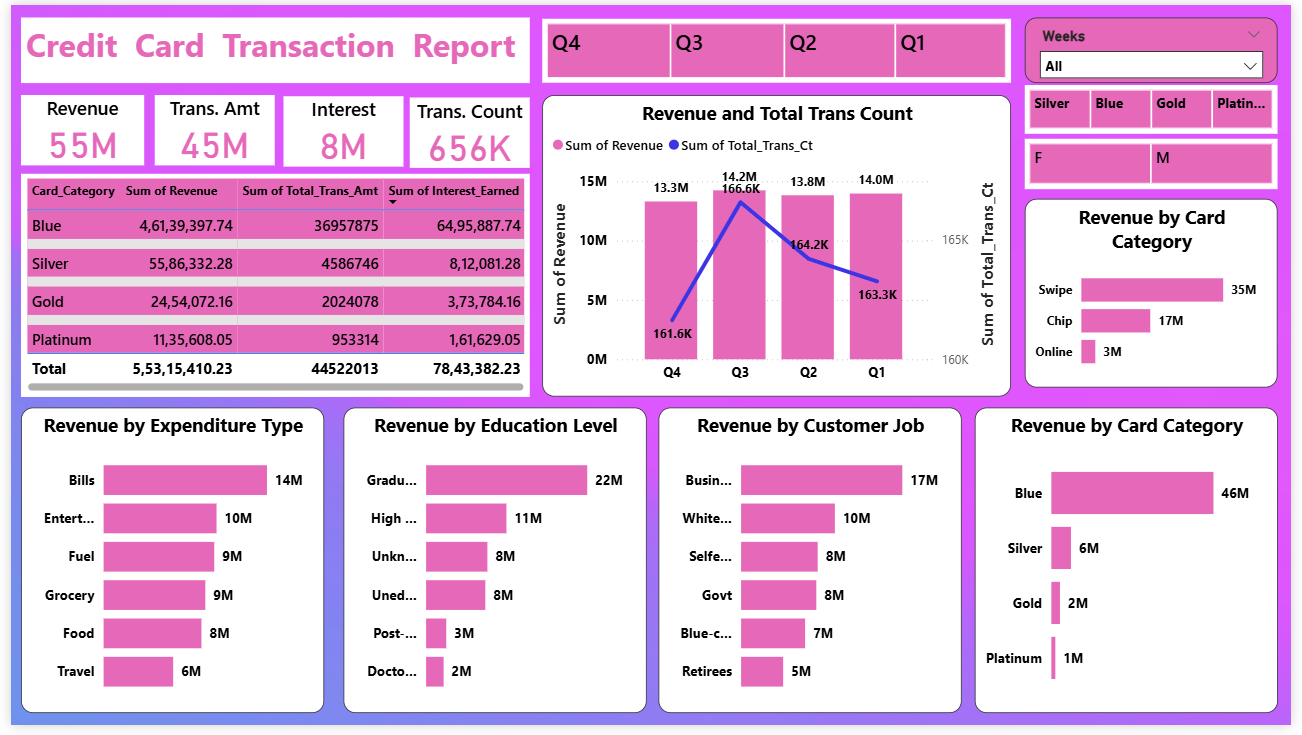

What the dashboard file says about the page in this screenshot:
{"tool":"powerbi","page":{"name":"Page 2","canvas":[1280,720],"ordinal":1},"visuals":[{"type":"textbox","box":[10,12.9,508.6,65.7],"z":0},{"type":"lineStackedColumnComboChart","title":"Revenue and Total Trans  Count","fields":{"Category":["ccdb cc_detail.Qtr"],"Y":["Sum(ccdb cc_detail.Revenue)"],"Y2":["Sum(ccdb cc_detail.Total_Trans_Ct)"]},"box":[531.4,90,468.6,301.4],"z":1000},{"type":"barChart","title":" Revenue by Expenditure Type","fields":{"Y":["Sum(ccdb cc_detail.Revenue)"],"Category":["ccdb cc_detail.Exp_Type"]},"box":[10,402.9,303,305.7],"z":2000},{"type":"barChart","title":" Revenue by Education Level","fields":{"Y":["Sum(ccdb cc_detail.Revenue)"],"Category":["ccdb cust_detail.Education_Level"]},"box":[332.9,402.9,303,305.7],"z":3000},{"type":"barChart","title":" Revenue by Customer Job","fields":{"Y":["Sum(ccdb cc_detail.Revenue)"],"Category":["ccdb cust_detail.Customer_Job"]},"box":[647.1,402.9,302.9,305.7],"z":4000},{"type":"barChart","title":" Revenue by Card Category","fields":{"Y":["Sum(ccdb cc_detail.Revenue)"],"Category":["ccdb cc_detail.Card_Category"]},"box":[964.3,402.9,302.9,305.7],"z":5000},{"type":"barChart","title":" Revenue by Card Category","fields":{"Y":["Sum(ccdb cc_detail.Revenue)"],"Category":["ccdb cc_detail.Use_Chip"]},"box":[1014.3,194.3,252.9,188.6],"z":6000},{"type":"tableEx","fields":{"Values":["ccdb cc_detail.Card_Category","Sum(ccdb cc_detail.Revenue)","Sum(ccdb cc_detail.Total_Trans_Amt)","Sum(ccdb cc_detail.Interest_Earned)"]},"box":[10,168.6,508.6,222.9],"z":7000},{"type":"card","title":"Interest ","fields":{"Values":["Sum(ccdb cc_detail.Interest_Earned)"]},"box":[272.9,91.4,120,70],"z":8000},{"type":"card","title":"Revenue","fields":{"Values":["Sum(ccdb cc_detail.Revenue)"]},"box":[10,90,122.9,70],"z":9000},{"type":"card","title":"Trans. Amt","fields":{"Values":["Sum(ccdb cc_detail.Total_Trans_Amt)"]},"box":[144.3,90,120,70],"z":10000},{"type":"card","title":"Trans. Count","fields":{"Values":["Sum(ccdb cc_detail.Total_Trans_Ct)"]},"box":[398.6,92.9,120,70],"z":11000},{"type":"slicer","fields":{"Values":["ccdb cc_detail.Week_Start_Date"]},"box":[1014.3,12.9,252.9,65.7],"z":12000},{"type":"treemap","fields":{"Group":["ccdb cc_detail.Qtr"],"Values":["Avg(ccdb cc_detail.Client_Num)"]},"box":[531.4,14.3,468.6,64.3],"z":13000},{"type":"treemap","fields":{"Group":["ccdb cust_detail.Gender"],"Values":["Avg(ccdb cc_detail.Client_Num)"]},"box":[1014.3,134.3,252.9,50],"z":14000},{"type":"treemap","fields":{"Group":["ccdb cc_detail.Card_Category"],"Values":["Avg(ccdb cc_detail.Client_Num)"]},"box":[1014.3,80,252.9,48.6],"z":15000}]}

Visuals, with their boxes in screenshot pixels (x1, y1, x2, y2), scaled from the page's 1280x720 canvas onto the 1302x735 screenshot:
textbox: bbox(10, 13, 528, 80)
"Revenue and Total Trans  Count" lineStackedColumnComboChart: bbox(541, 92, 1017, 400)
" Revenue by Expenditure Type" barChart: bbox(10, 411, 318, 723)
" Revenue by Education Level" barChart: bbox(339, 411, 647, 723)
" Revenue by Customer Job" barChart: bbox(658, 411, 966, 723)
" Revenue by Card Category" barChart: bbox(981, 411, 1289, 723)
" Revenue by Card Category" barChart: bbox(1032, 198, 1289, 391)
tableEx - ccdb cc_detail.Card_Category x Sum(ccdb cc_detail.Revenue): bbox(10, 172, 528, 400)
"Interest " card: bbox(278, 93, 400, 165)
"Revenue" card: bbox(10, 92, 135, 163)
"Trans. Amt" card: bbox(147, 92, 269, 163)
"Trans. Count" card: bbox(405, 95, 528, 166)
slicer - ccdb cc_detail.Week_Start_Date: bbox(1032, 13, 1289, 80)
treemap - ccdb cc_detail.Qtr x Avg(ccdb cc_detail.Client_Num): bbox(541, 15, 1017, 80)
treemap - ccdb cust_detail.Gender x Avg(ccdb cc_detail.Client_Num): bbox(1032, 137, 1289, 188)
treemap - ccdb cc_detail.Card_Category x Avg(ccdb cc_detail.Client_Num): bbox(1032, 82, 1289, 131)
